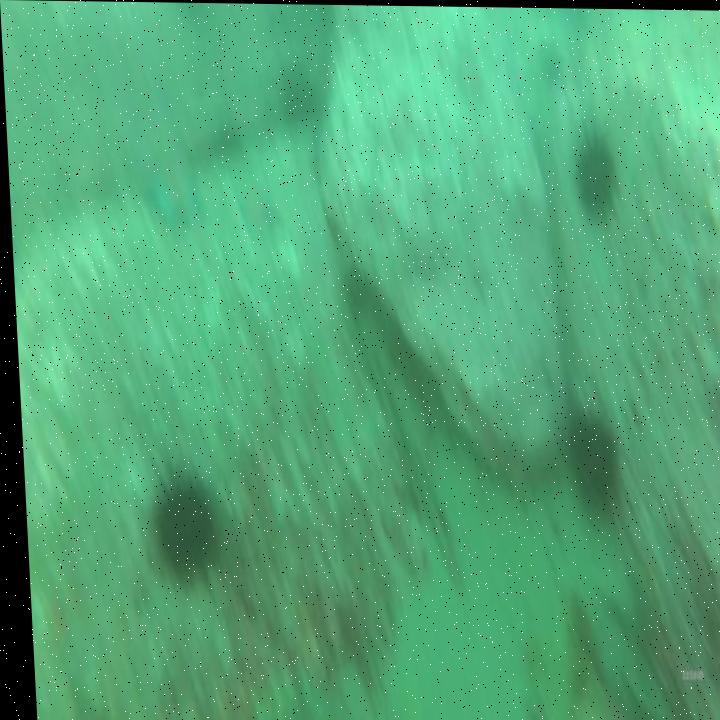echinus: (146, 481, 213, 574), (565, 405, 608, 507), (574, 129, 614, 219)
starfish: (141, 162, 205, 224)
